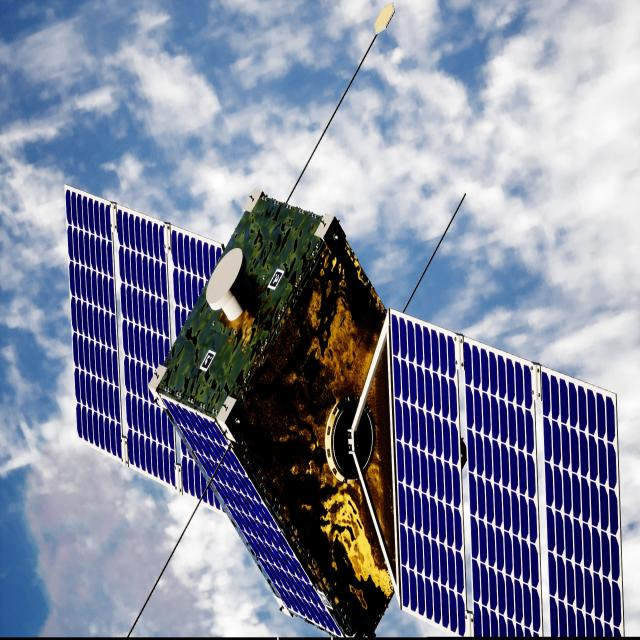medium_debris: (64, 190, 624, 640)
